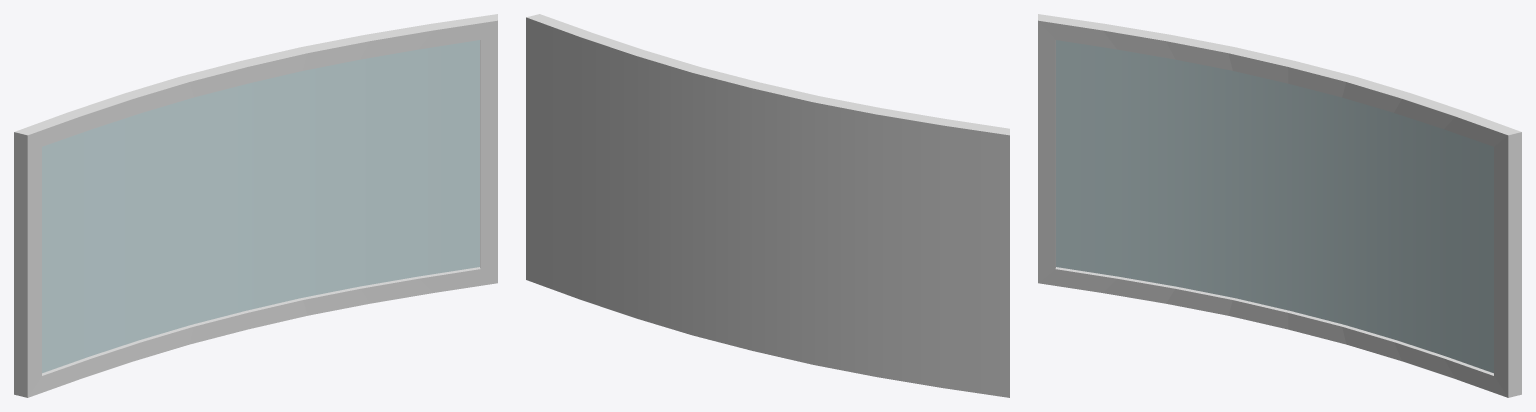
File: Itr_Obj_Monitor_LCD_Curved_Screen_On_04.FBX
3 views of the same model, side by side, from view 1: azimuth 30°, elevation 25°; view 2: azimuth 150°, elevation 25°; view 3: azimuth 330°, elevation 25° (orthographic).
Visible parts, largest first — view 1: Itr_Obj_Monitor_LCD_Curved_Screen_On_04; view 2: Itr_Obj_Monitor_LCD_Curved_Screen_On_04; view 3: Itr_Obj_Monitor_LCD_Curved_Screen_On_04.
Part boxes in pixels (<box>): Itr_Obj_Monitor_LCD_Curved_Screen_On_04: <box>14,14,497,397</box>; Itr_Obj_Monitor_LCD_Curved_Screen_On_04: <box>526,14,1009,397</box>; Itr_Obj_Monitor_LCD_Curved_Screen_On_04: <box>1038,14,1521,397</box>.
Bounding box in the file's own units: 67.75 × 35.13 × 5.58.
